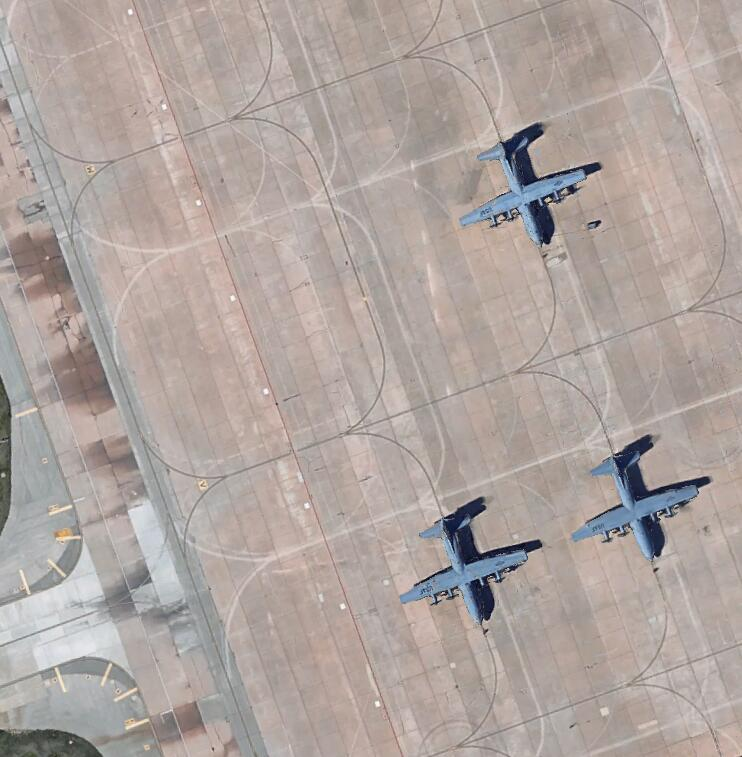A2: (397, 505, 529, 626), (566, 443, 702, 560), (452, 131, 588, 247)
